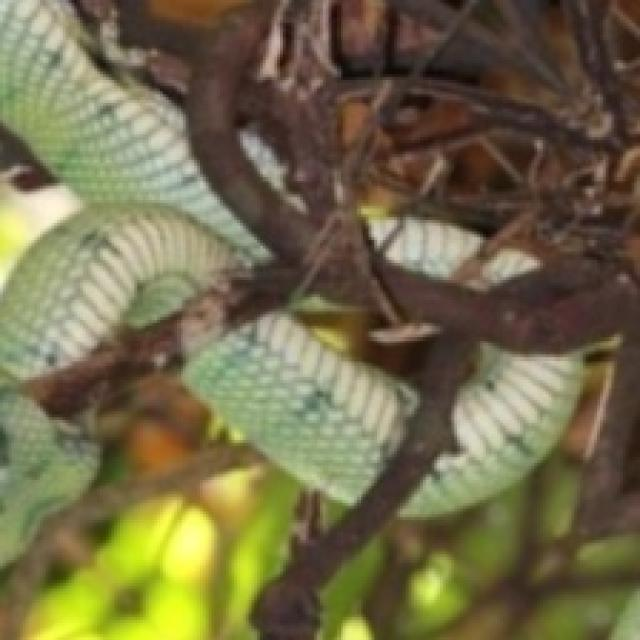north ph temple pitviper: (0, 0, 260, 377), (186, 311, 414, 500), (403, 346, 580, 514), (0, 386, 91, 549)
